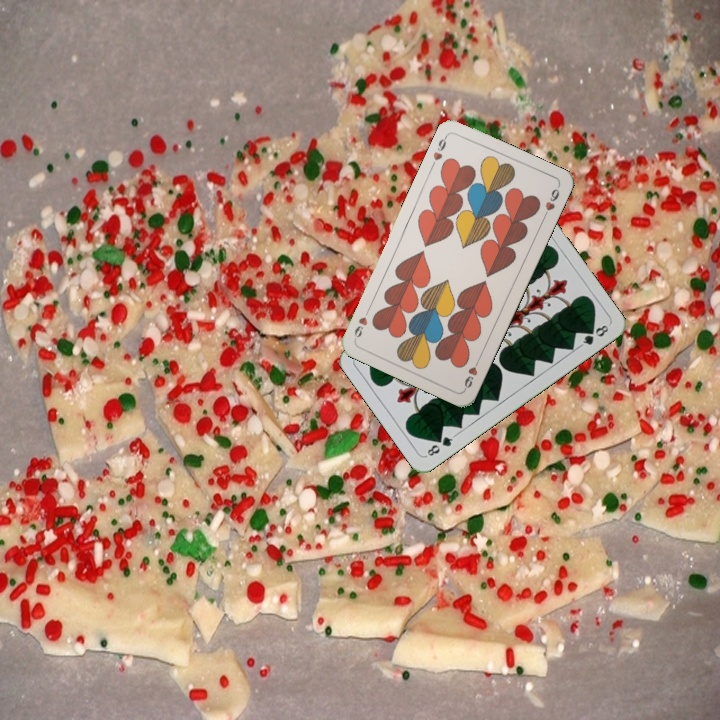G8: (422, 431, 457, 459)
H9: (460, 354, 483, 392), (429, 131, 450, 163)
